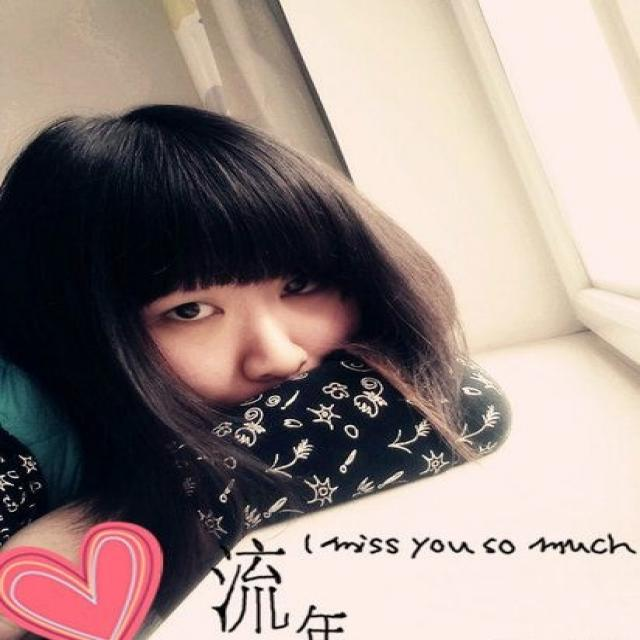nomask: (119, 186, 350, 456)
